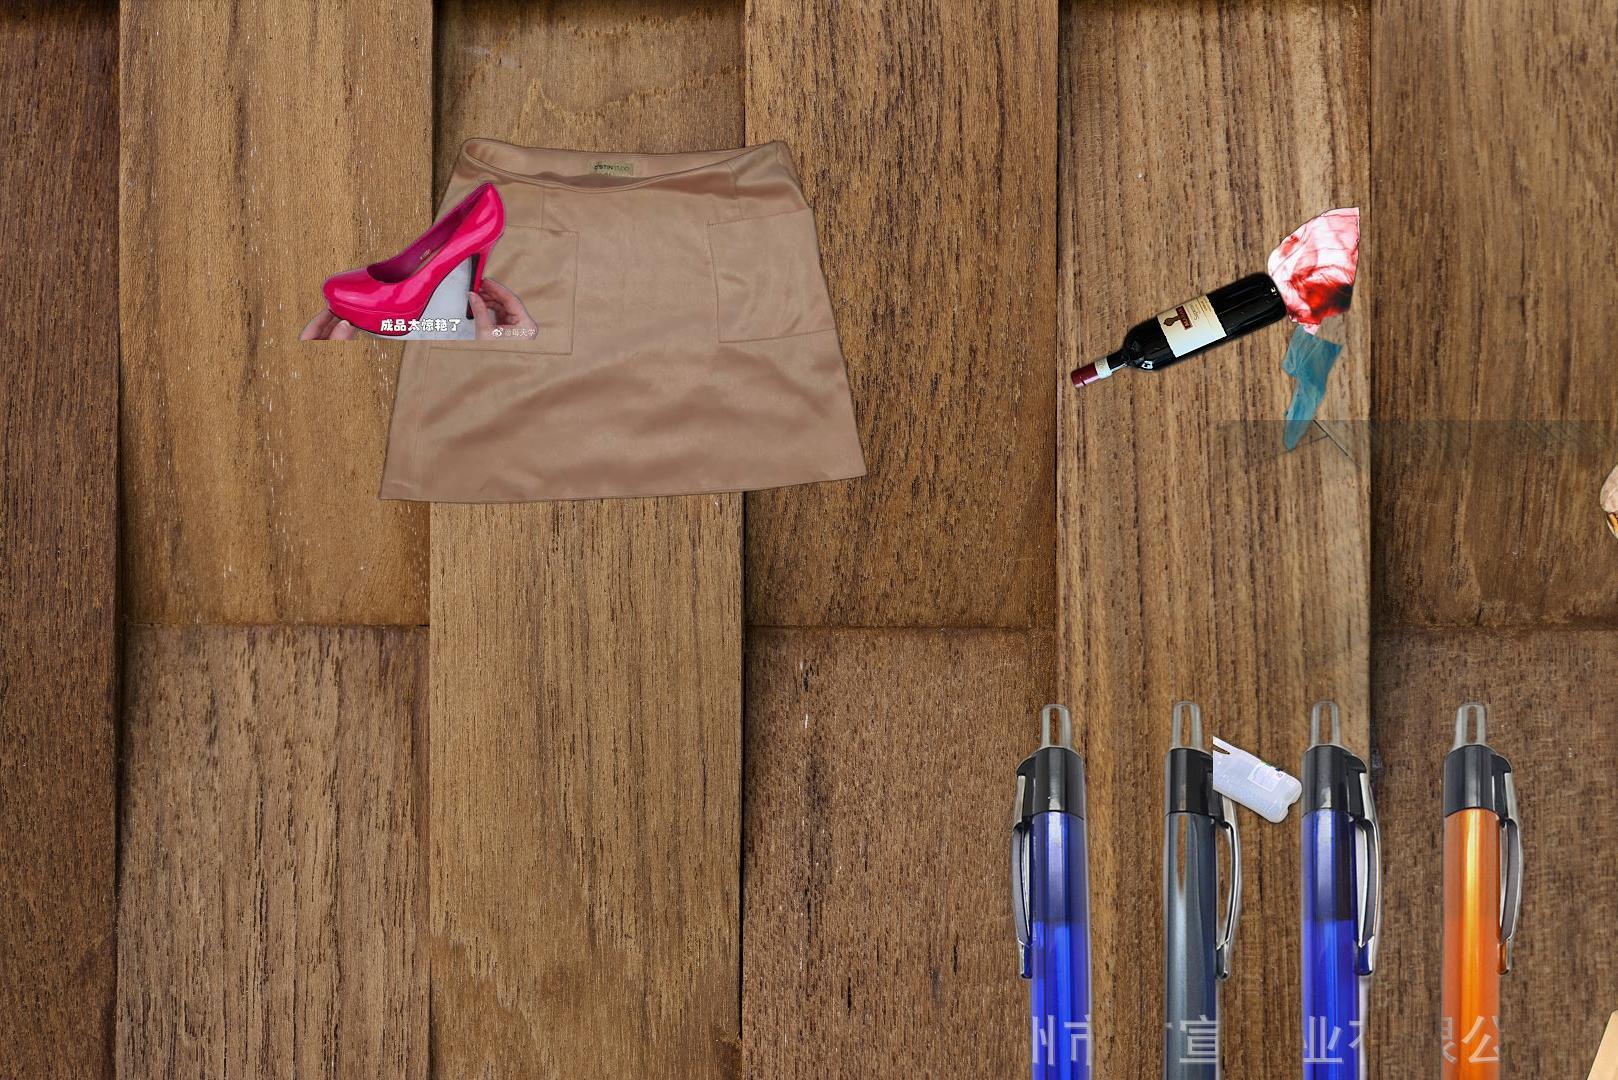clothes: (371, 134, 875, 507)
glass: (1065, 265, 1292, 528)
paper-bag: (1596, 403, 1618, 633), (1573, 998, 1618, 1080)
penholder: (952, 694, 1618, 1080)
plastic-bag: (1238, 188, 1526, 457)
plastic-bottles: (1213, 419, 1618, 1080)
shoes: (296, 180, 542, 340)
